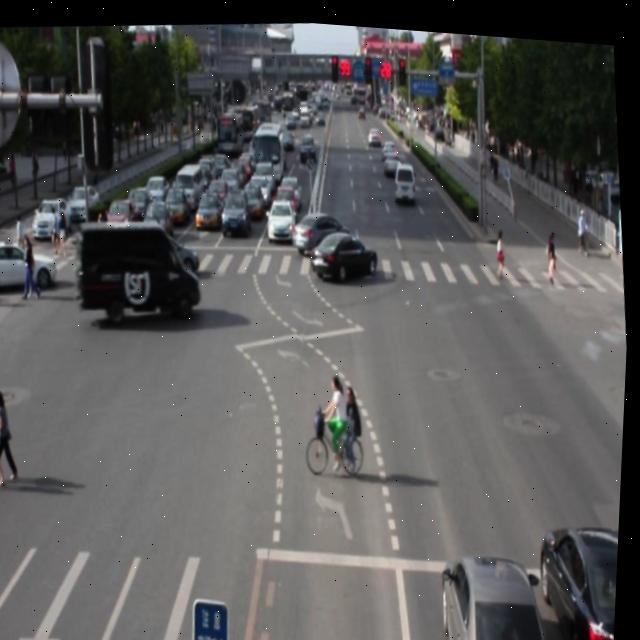car: (441, 535, 557, 640), (535, 508, 623, 640), (124, 219, 203, 275), (311, 219, 379, 277), (292, 199, 358, 250)
truck: (72, 206, 206, 327)
